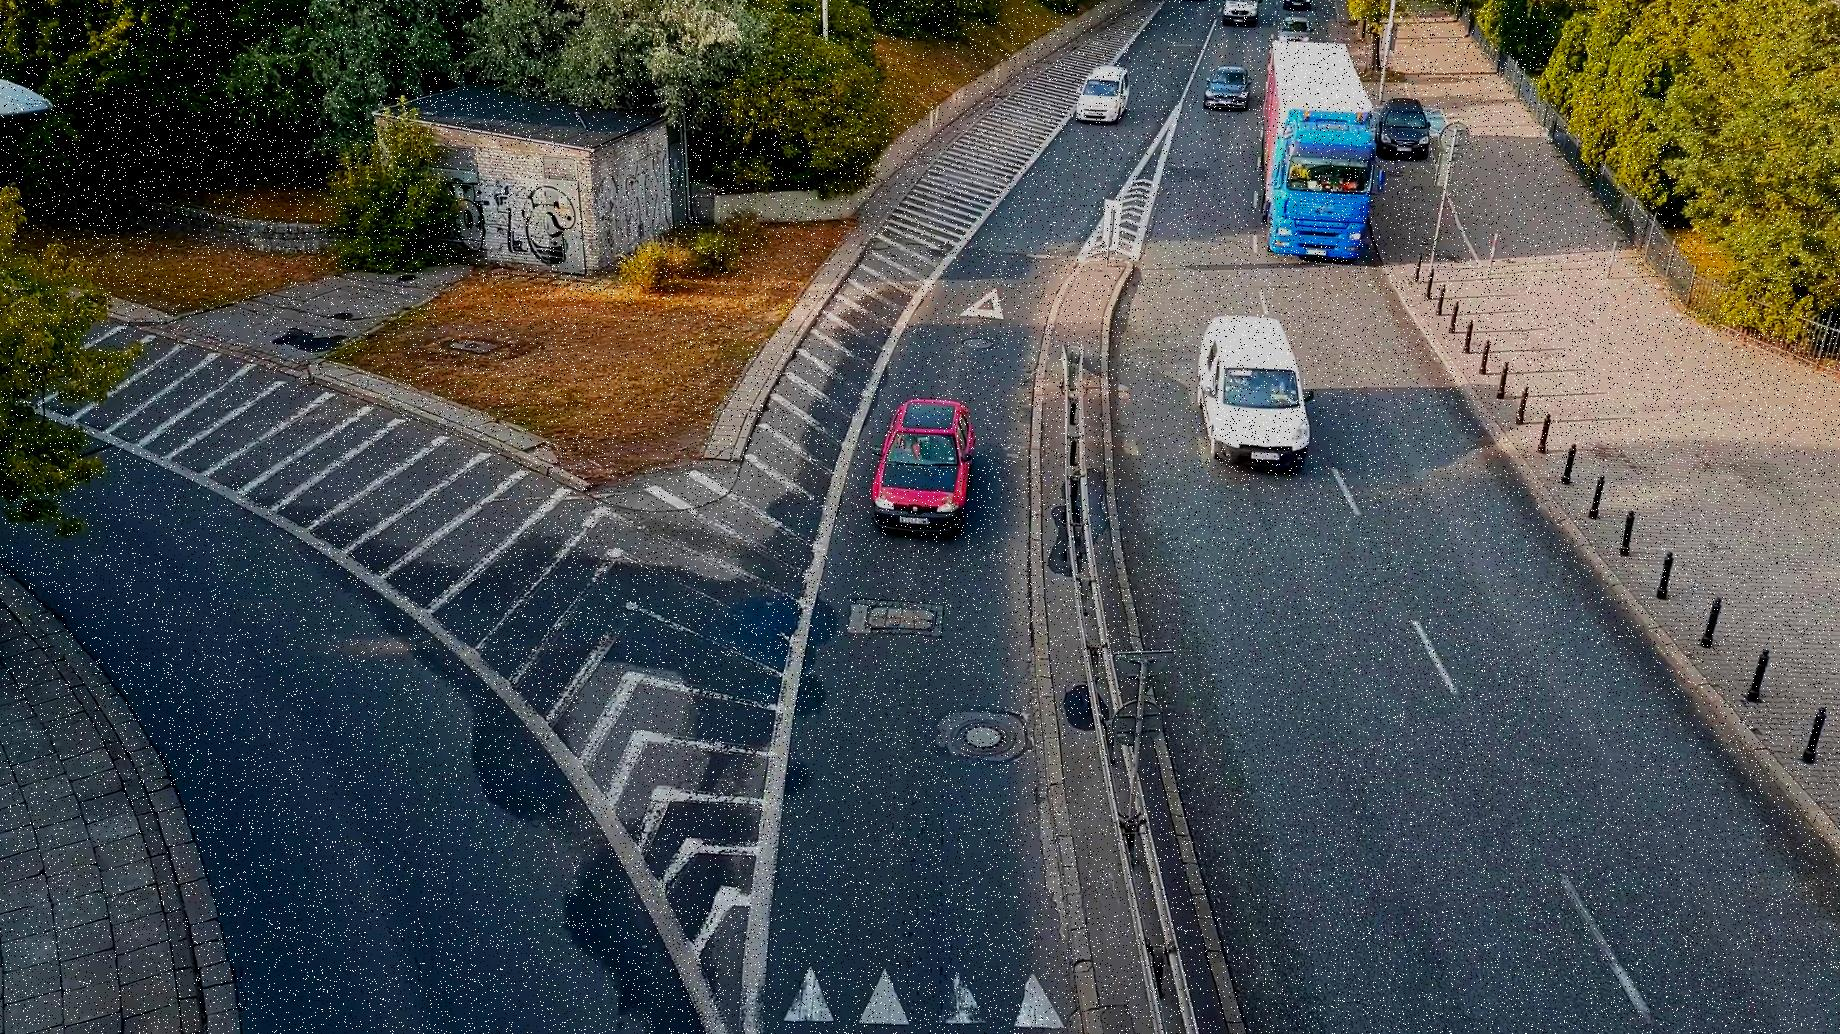bus: (1264, 39, 1377, 269), (1379, 94, 1427, 154)
car: (1194, 306, 1317, 465), (872, 389, 973, 528), (1077, 58, 1135, 118), (1209, 57, 1250, 110)
